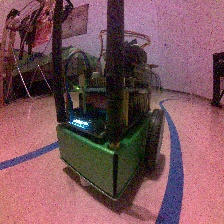rob: (55, 43, 166, 203)
